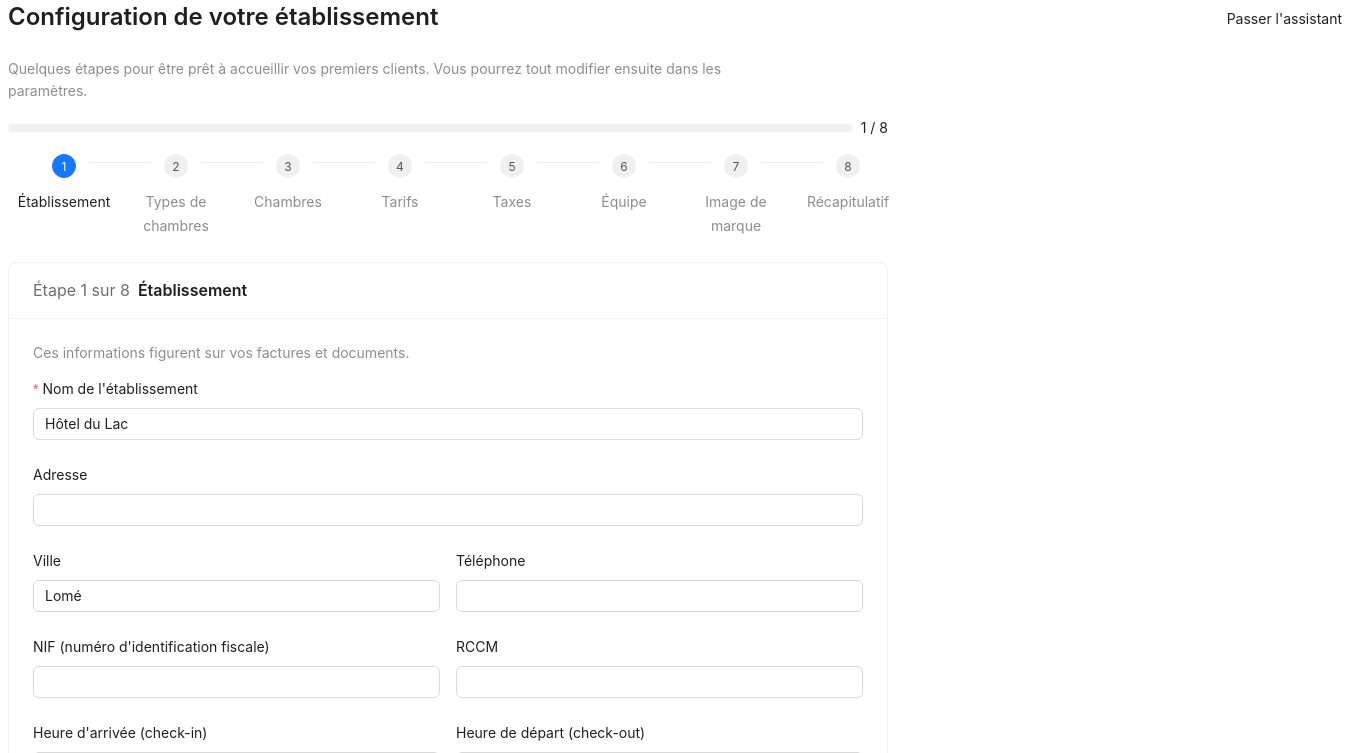
Scenario: onboarding wizard › does not move on when the step is invalid
Clear the field labelled "Nom de l'établissement". click: x=448, y=424
box: [33, 408, 863, 440]
(page scrolled)
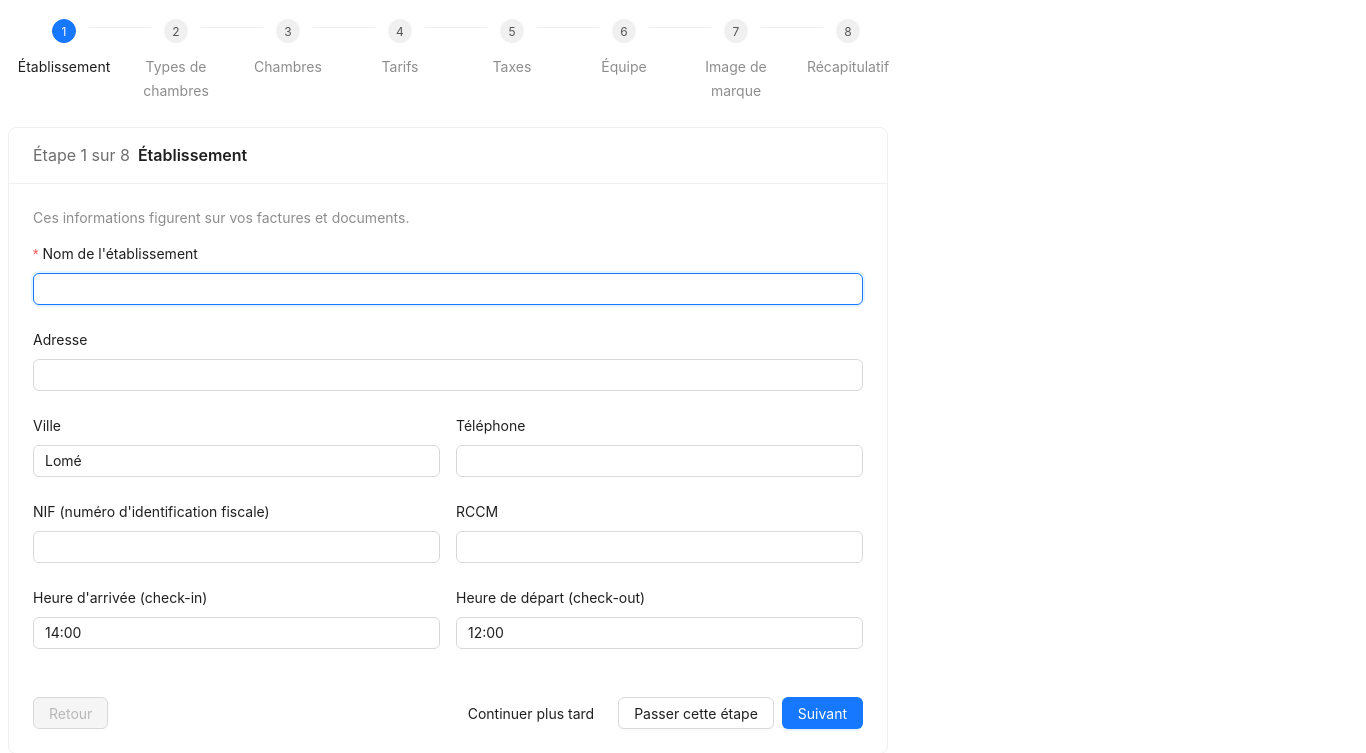
Click the button "Suivant". click: x=822, y=713
box: [782, 697, 863, 729]
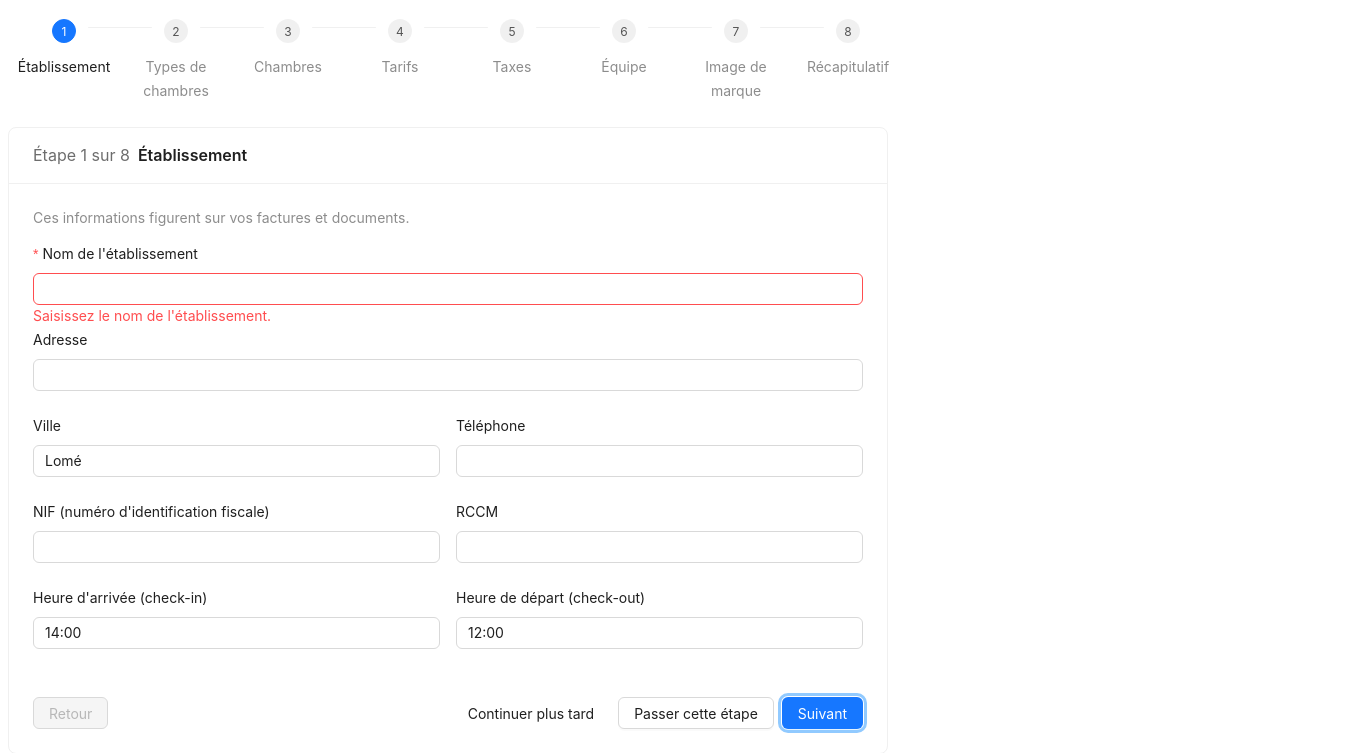
Expected: the text "Étape 1 sur 8" is shown, [33, 145, 130, 165]
Now the text "Saisissez le nom de l'établissement." is shown, box [33, 307, 271, 324]
